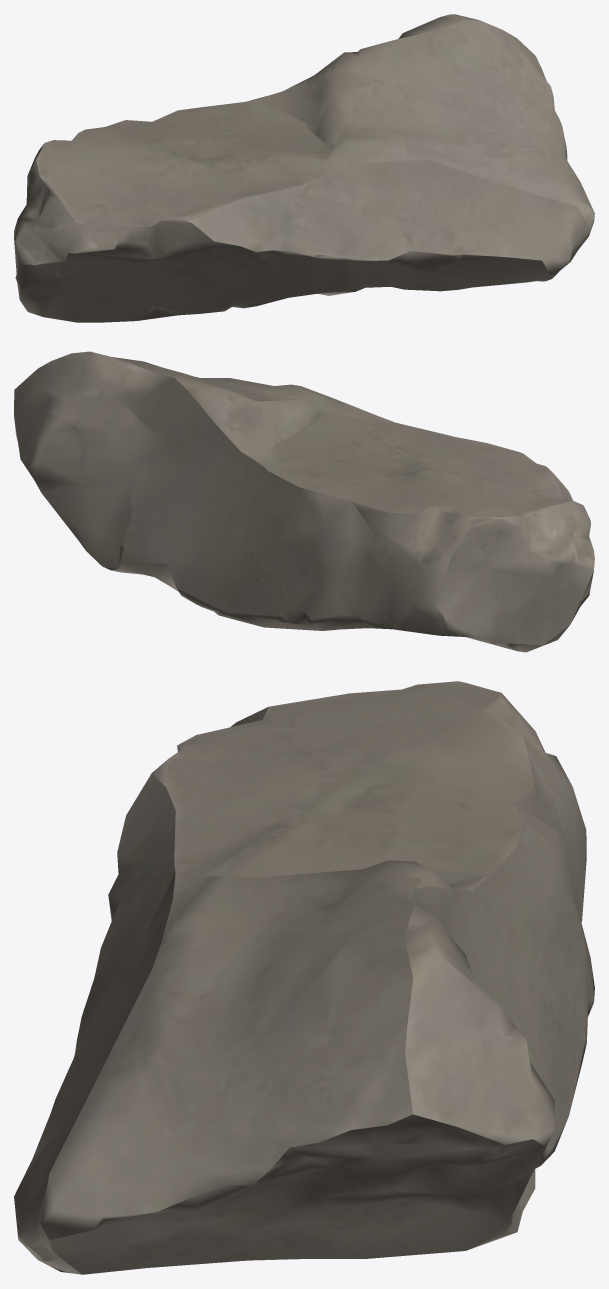
The model's file is moon_rock_a.glb.
3 renders of one model, top to bottom at view 1: azimuth 30°, elevation 25°; view 2: azimuth 150°, elevation 25°; view 3: azimuth 270°, elevation 25°, orthographic. The views are drawn at different scales.
Parts seen in each view (by area): view 1: moon_rock_01_LOD0; view 2: moon_rock_01_LOD0; view 3: moon_rock_01_LOD0.
Boxes of the visible parts, x1,y1,x2,y2 form: moon_rock_01_LOD0: (14, 14, 594, 322); moon_rock_01_LOD0: (14, 351, 594, 652); moon_rock_01_LOD0: (14, 681, 594, 1274).
Size of what is drawn, in the model's own units: 1.69 by 0.5986 by 0.883.
Materials: 1 (1 with a texture image).
